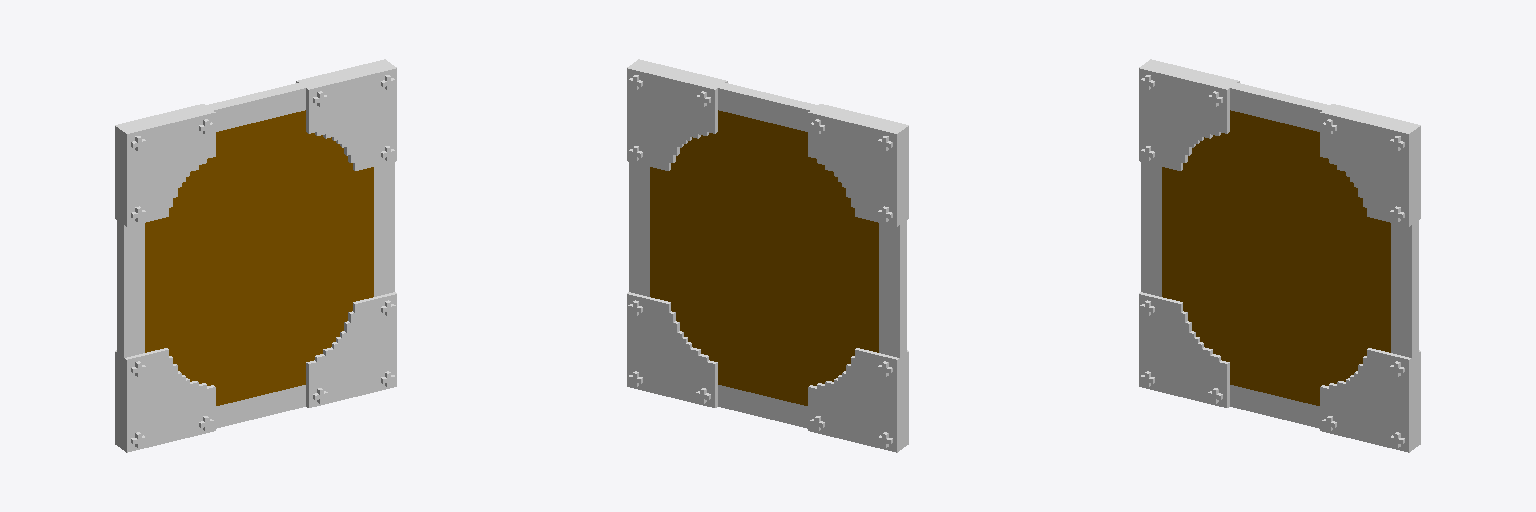
3 views of the same model, side by side, from view 1: azimuth 30°, elevation 25°; view 2: azimuth 150°, elevation 25°; view 3: azimuth 330°, elevation 25° (orthographic).
Parts seen in each view (by area): view 1: DORWS01; view 2: DORWS01; view 3: DORWS01.
Boxes of the visible parts, x1=… form: DORWS01: x1=115, y1=59, x2=396, y2=452; DORWS01: x1=627, y1=59, x2=908, y2=452; DORWS01: x1=1139, y1=59, x2=1420, y2=452.
Bounding box in the file's own units: 6.4 × 7.2 × 0.7.
1 materials, 1 textured.